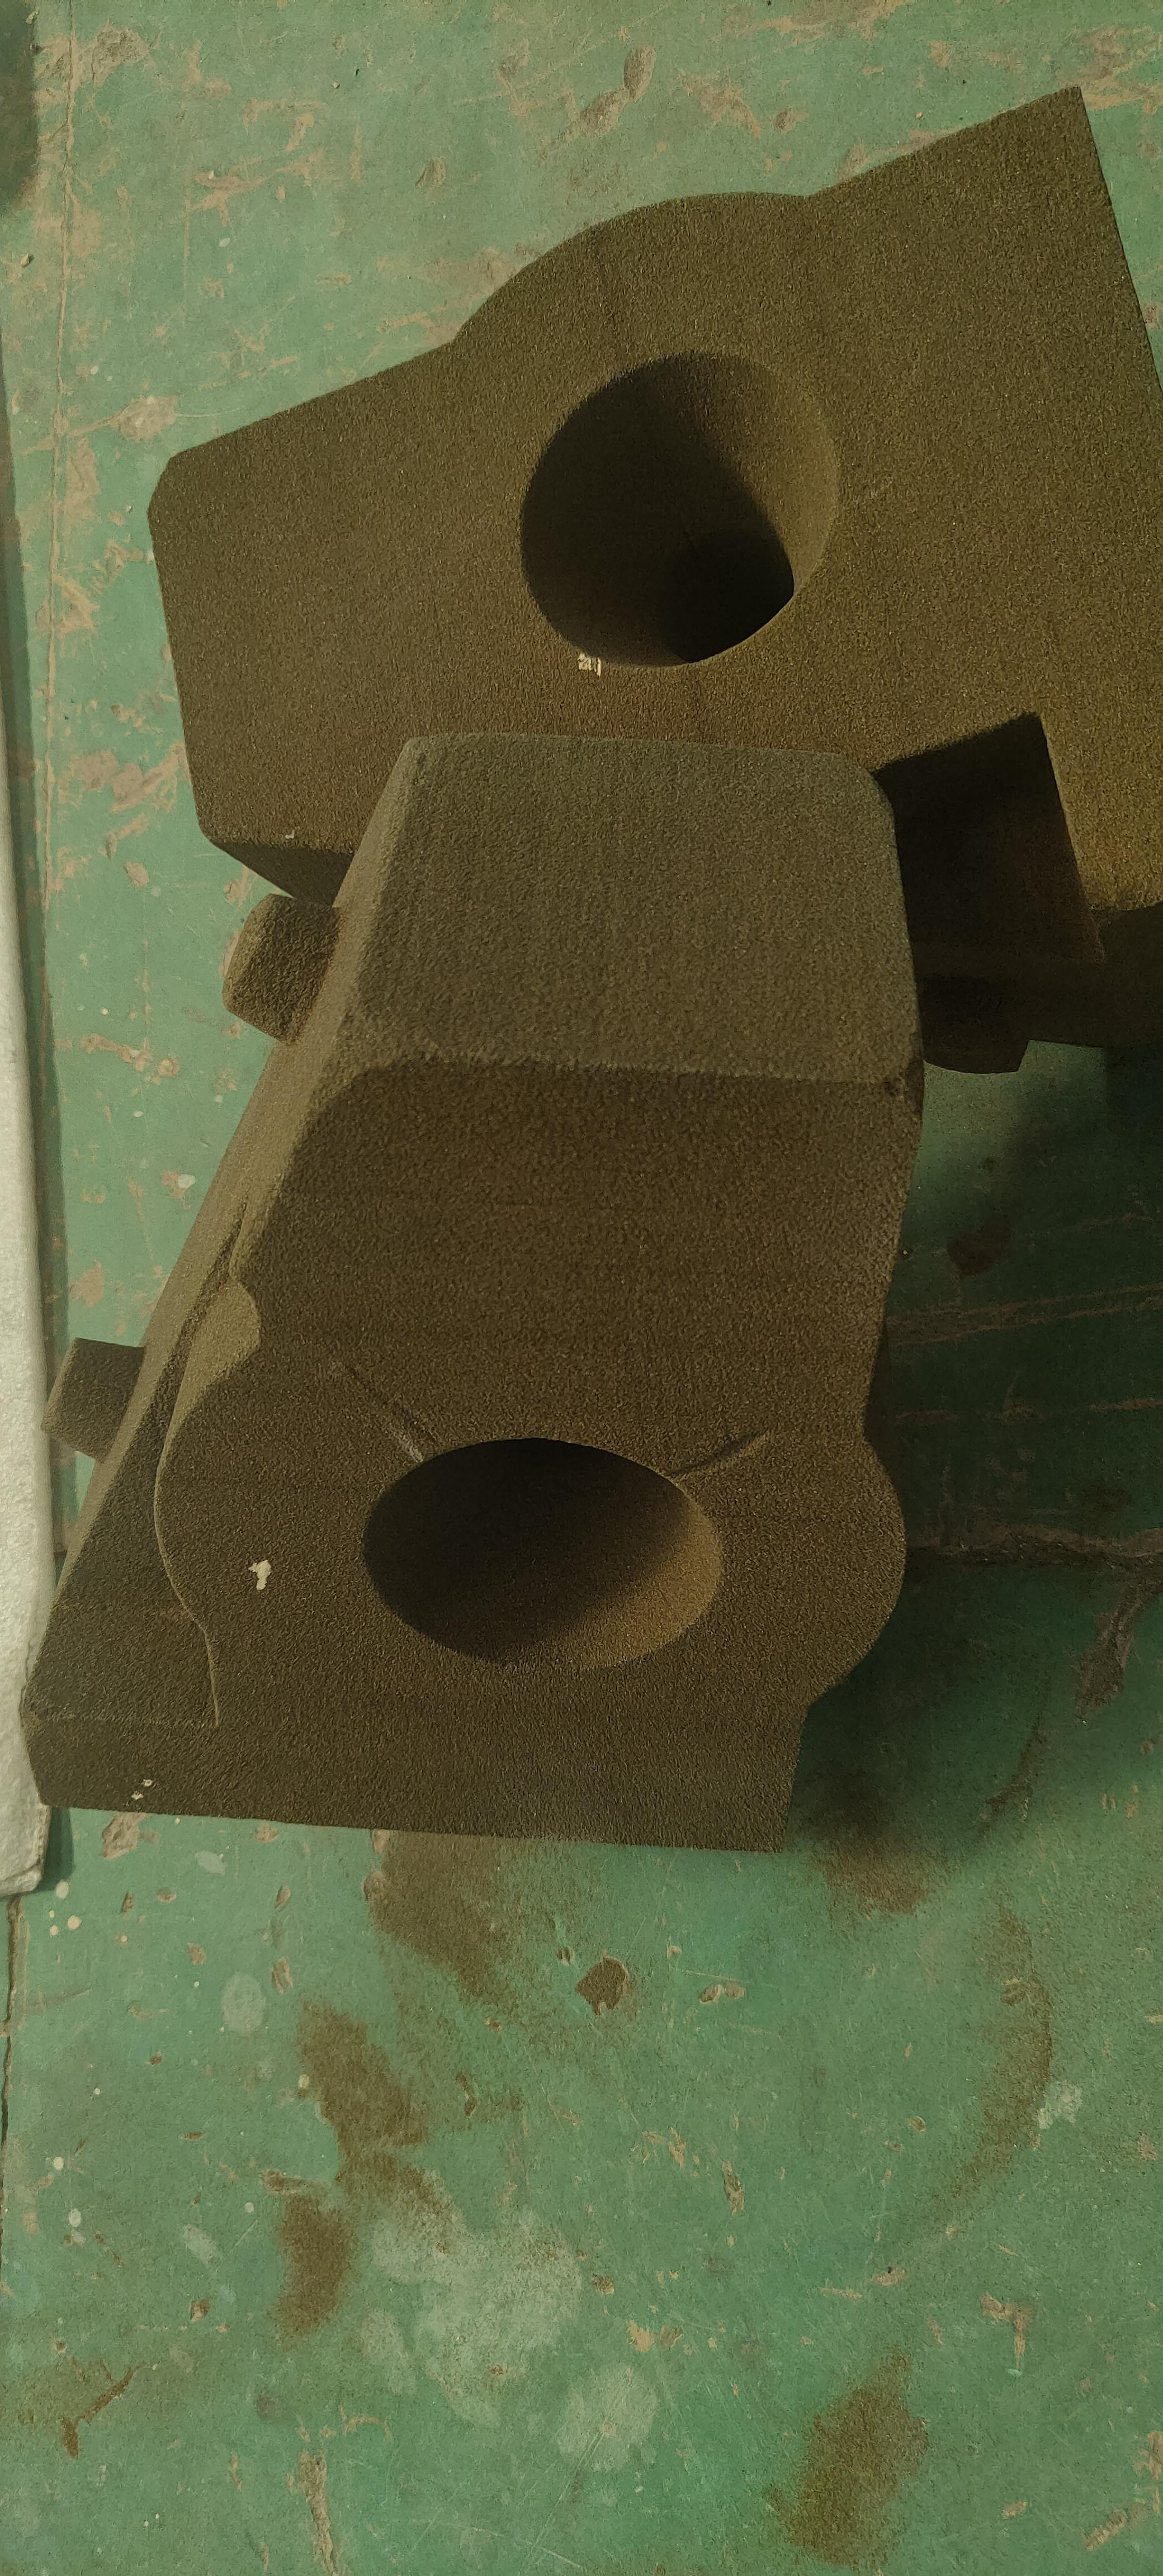pouring hole: (516, 352, 844, 670), (355, 1439, 726, 1681)
